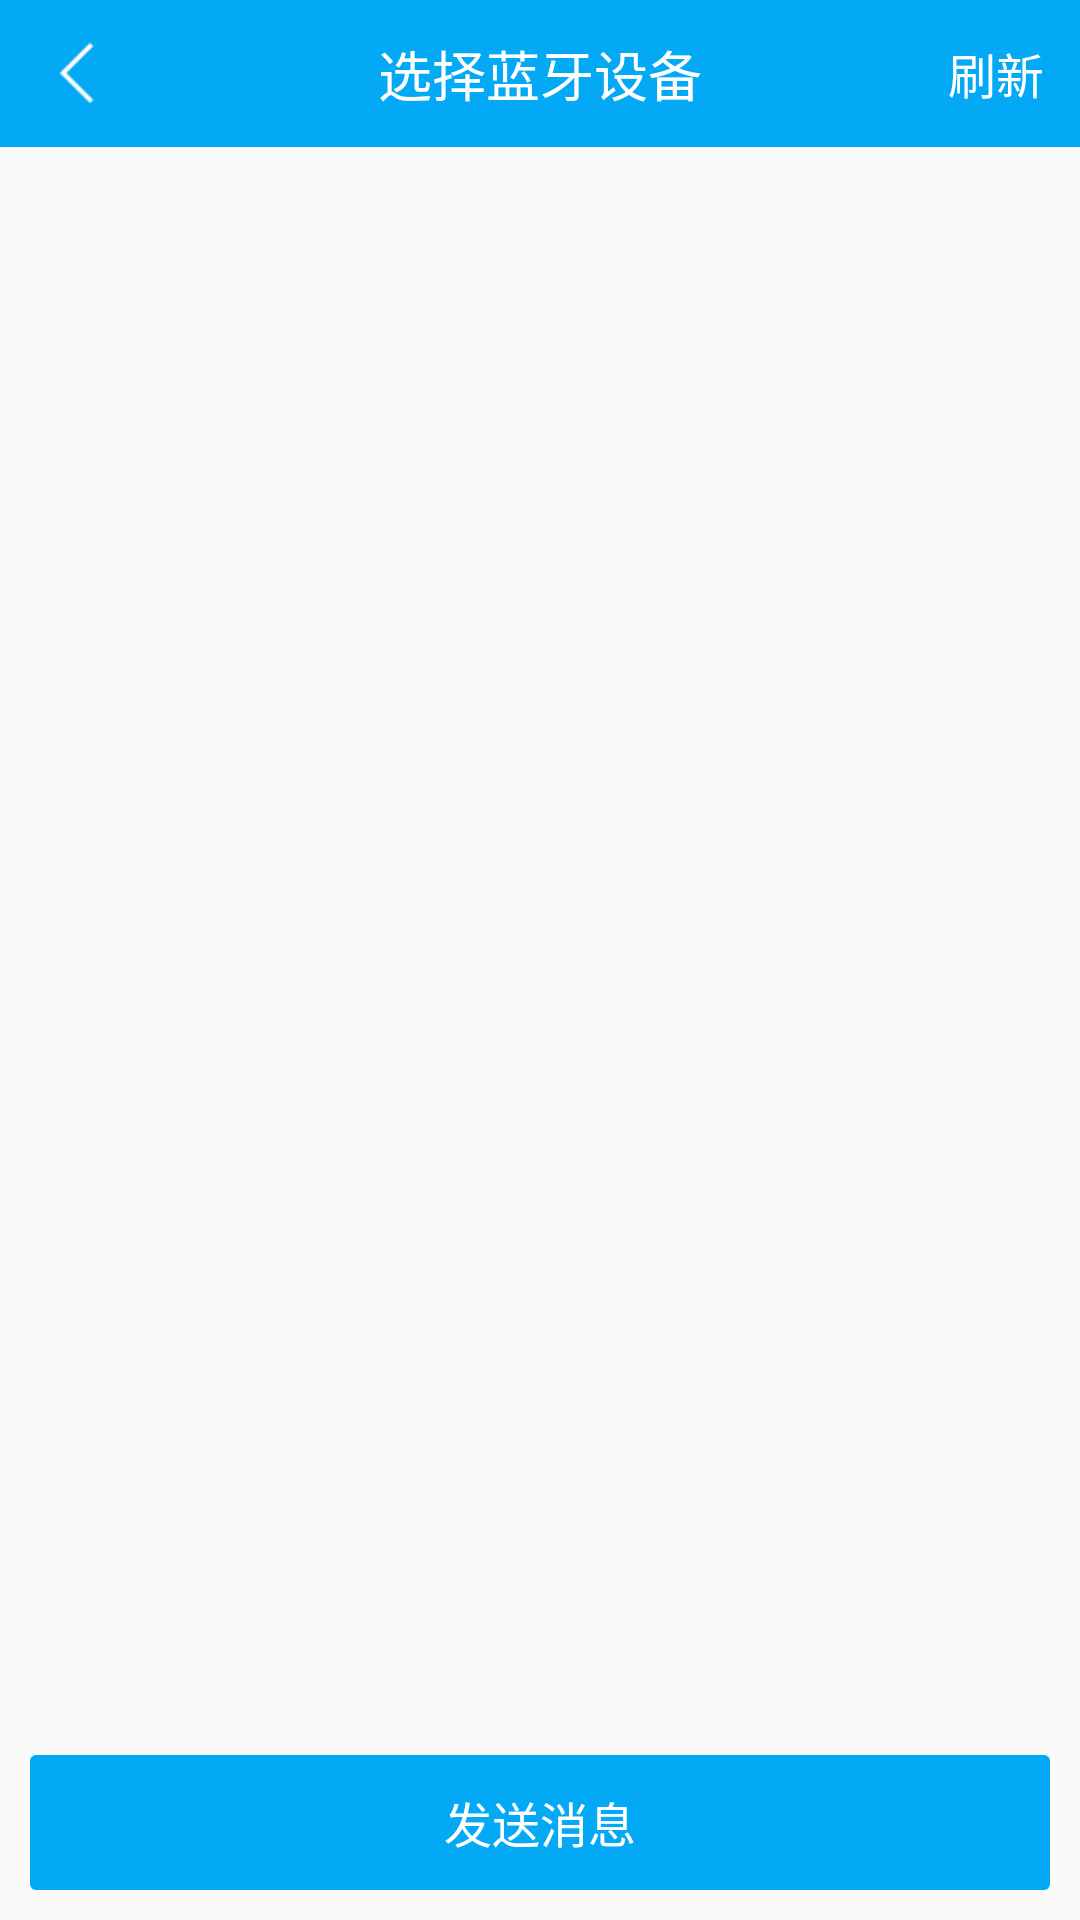

Locate icon controls on the screen. Image size 1080 × 1920, boxes as (x1, y1, x2, y2).
back: (59, 43, 94, 103)
